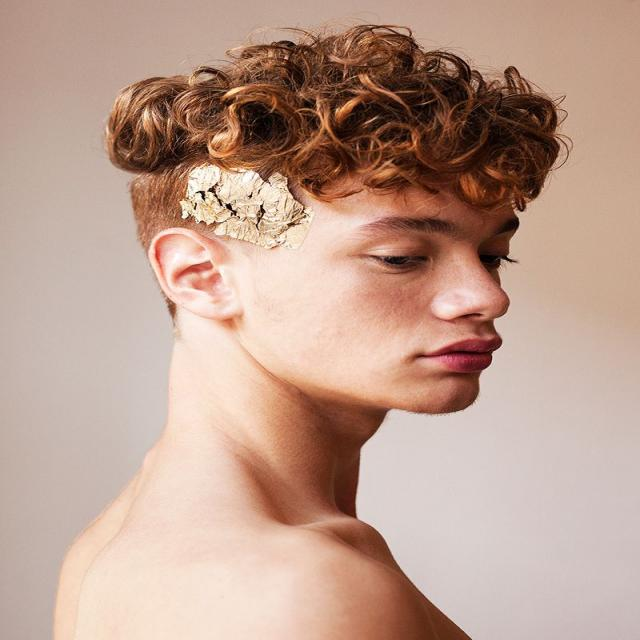earlobe: (147, 227, 235, 321)
